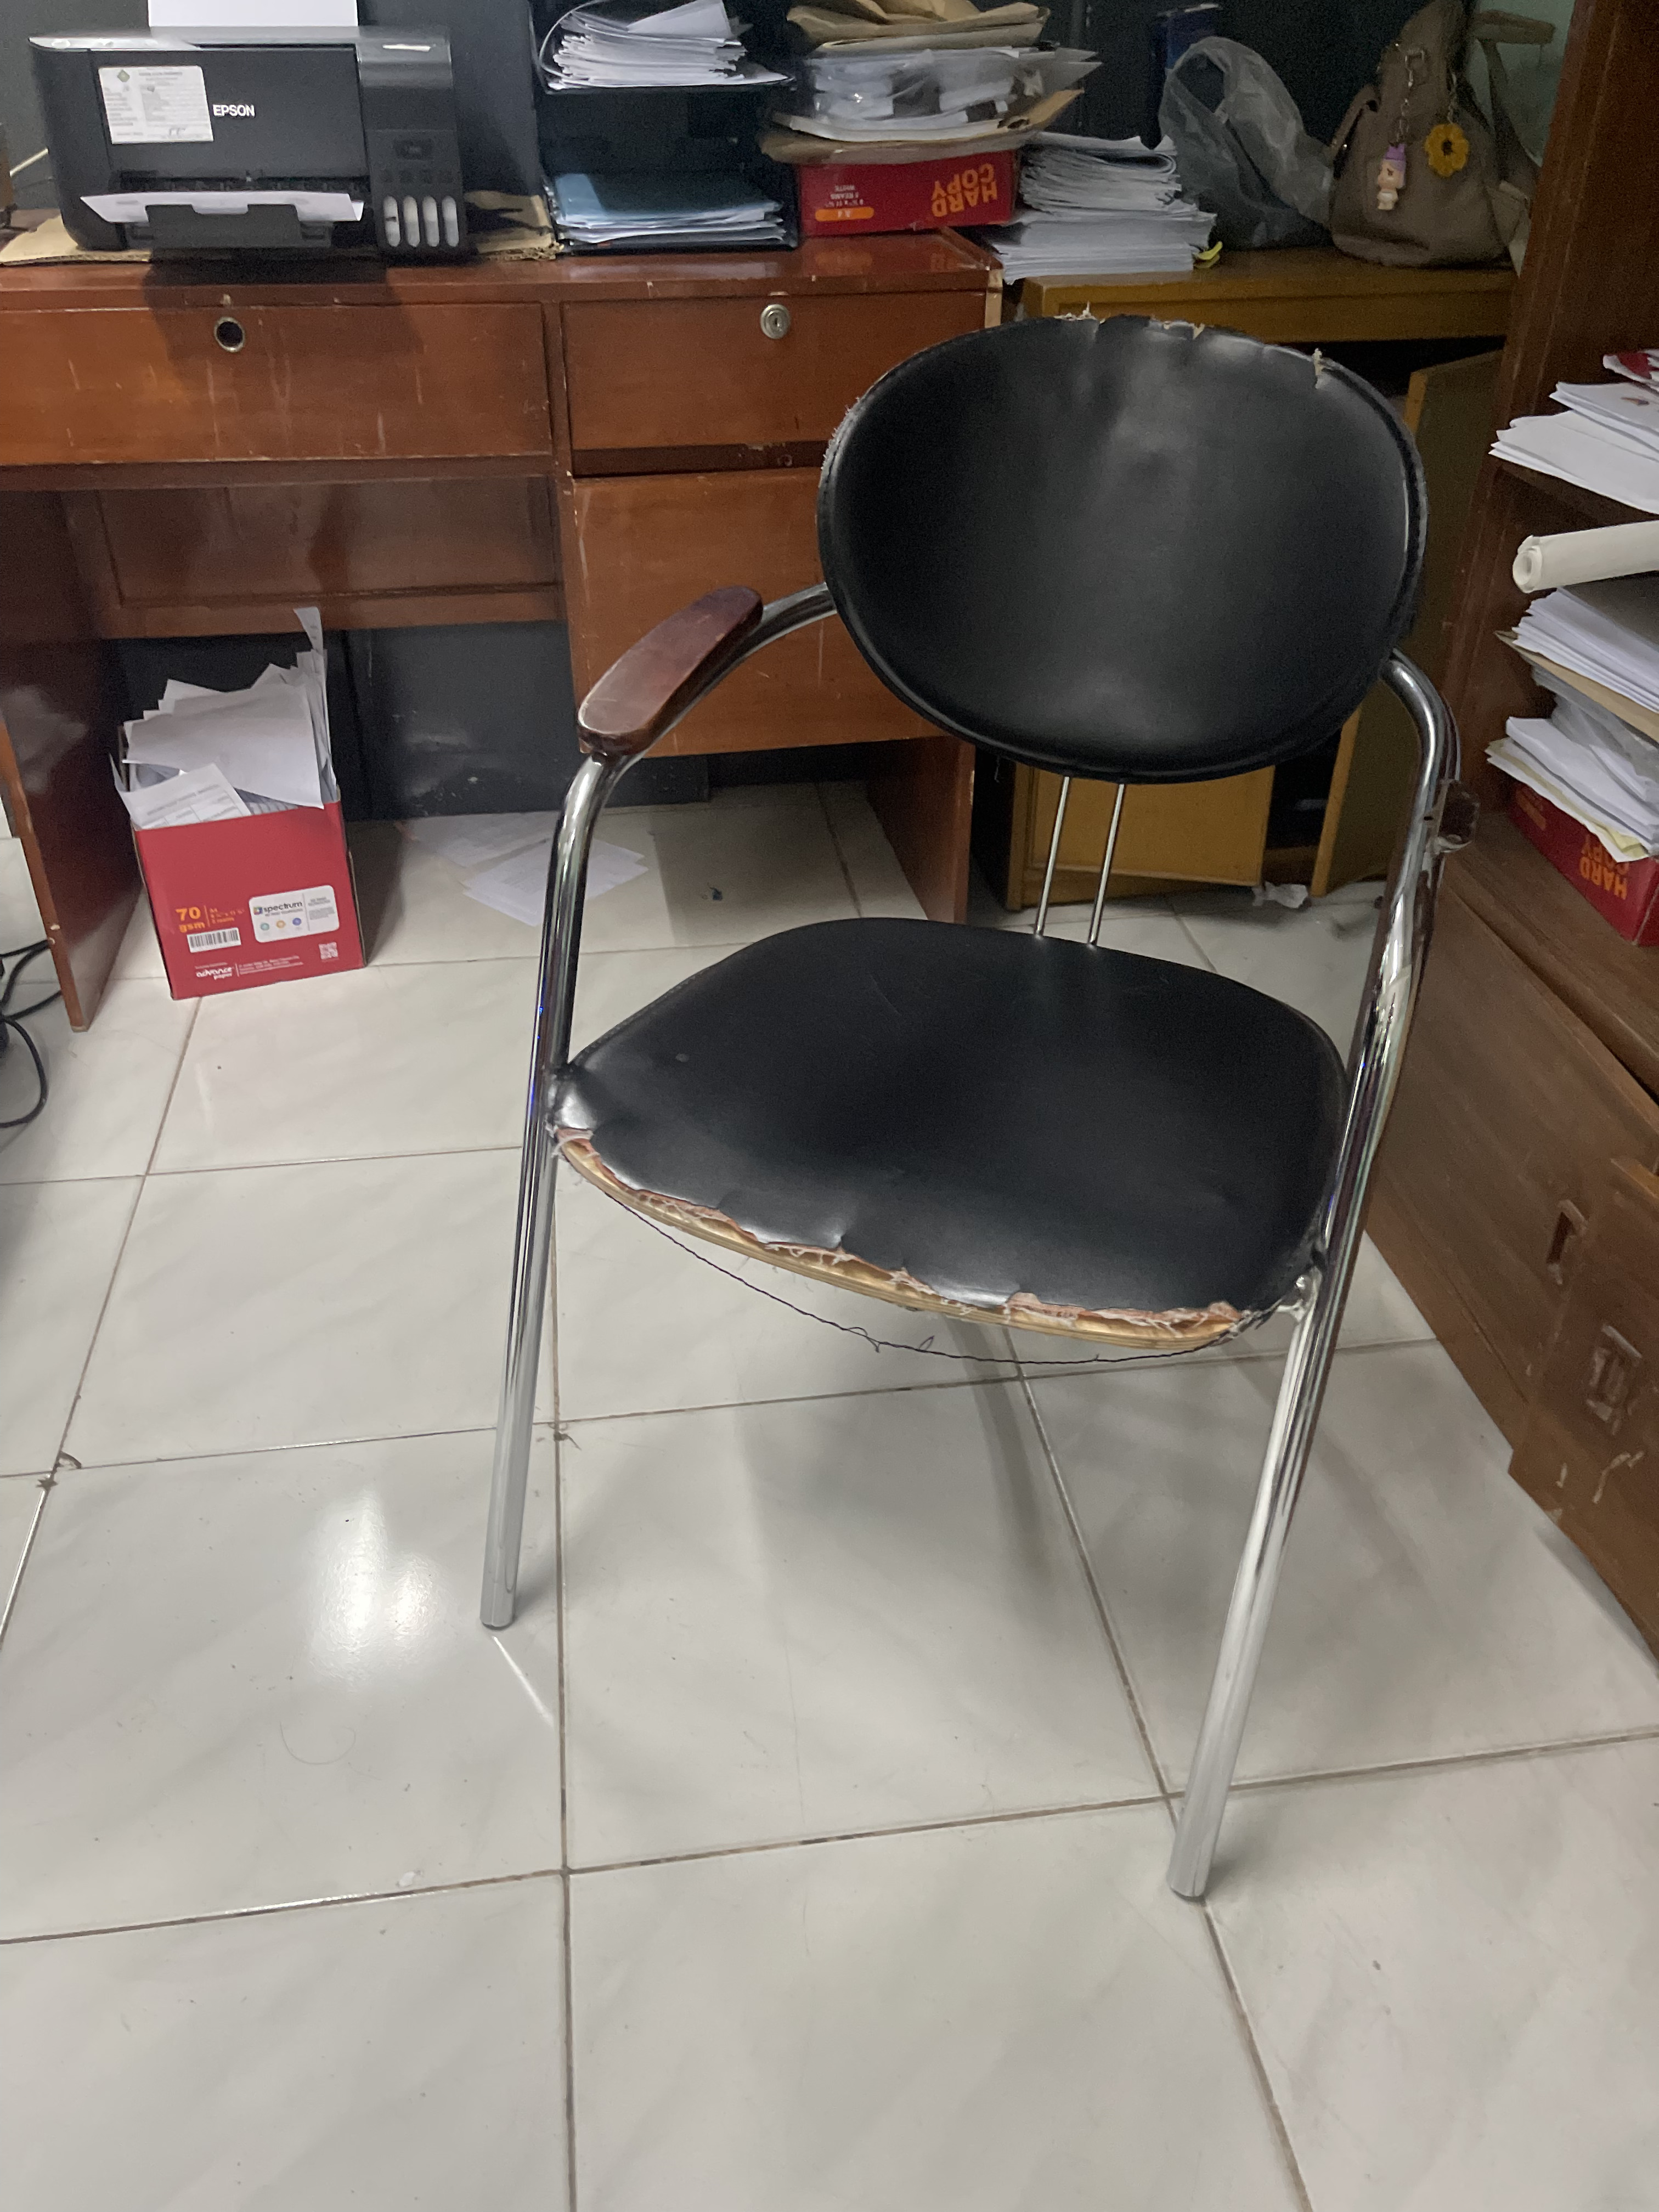chair1: (471, 310, 1476, 1919)
